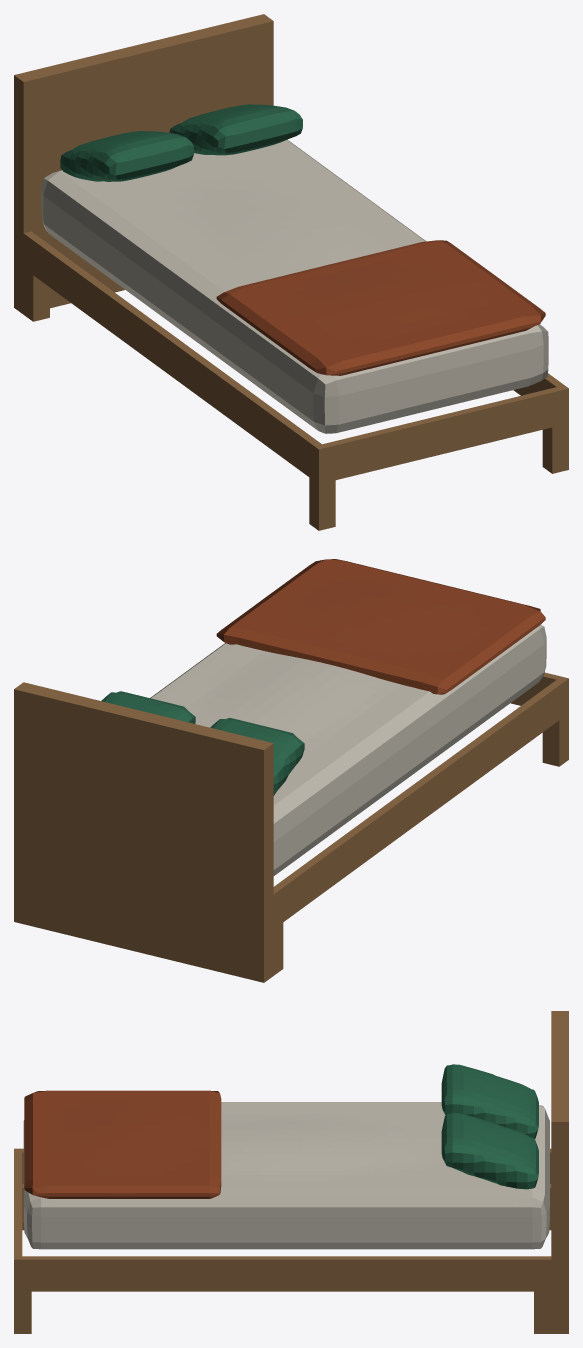
File: FET-KBD-single.glb
The picture shows the model from 3 angles, top to bottom: view 1: azimuth 30°, elevation 25°; view 2: azimuth 150°, elevation 25°; view 3: azimuth 270°, elevation 25°; orthographic projection. The views are drawn at different scales.
Visible parts, largest first — view 1: mattress:pbr, head:pbr, throw:pbr, rail-l:pbr, foot:pbr, pillow-l:pbr, pillow-r:pbr, leg-fl:pbr, leg-fr:pbr, leg-hl:pbr, rail-r:pbr; view 2: head:pbr, mattress:pbr, throw:pbr, rail-l:pbr, pillow-l:pbr, pillow-r:pbr, leg-fl:pbr; view 3: mattress:pbr, throw:pbr, rail-r:pbr, head:pbr, pillow-r:pbr, pillow-l:pbr, foot:pbr, leg-fr:pbr, leg-hr:pbr.
Boxes of the visible parts, box(x1,y1,x2,y2) form: mattress:pbr: box(41, 139, 548, 433); head:pbr: box(14, 14, 273, 314); throw:pbr: box(216, 240, 545, 375); rail-l:pbr: box(23, 231, 326, 484); foot:pbr: box(322, 387, 561, 482); pillow-l:pbr: box(60, 131, 193, 181); pillow-r:pbr: box(169, 104, 302, 155); leg-fl:pbr: box(309, 477, 335, 530); leg-fr:pbr: box(542, 423, 568, 473); leg-hl:pbr: box(23, 268, 49, 321); rail-r:pbr: box(513, 373, 568, 424); head:pbr: box(14, 682, 273, 982); mattress:pbr: box(150, 624, 546, 875); throw:pbr: box(216, 559, 545, 694); rail-l:pbr: box(273, 676, 568, 928); pillow-l:pbr: box(210, 717, 304, 795); pillow-r:pbr: box(101, 691, 195, 723); leg-fl:pbr: box(542, 713, 568, 766); mattress:pbr: box(23, 1102, 549, 1249); throw:pbr: box(24, 1090, 221, 1198); rail-r:pbr: box(14, 1256, 551, 1291); head:pbr: box(551, 1011, 568, 1333); pillow-r:pbr: box(441, 1112, 538, 1189); pillow-l:pbr: box(441, 1064, 538, 1138); foot:pbr: box(14, 1152, 22, 1256); leg-fr:pbr: box(14, 1291, 31, 1333); leg-hr:pbr: box(534, 1291, 551, 1333).
Size of the model in its own units: 0.9 by 0.8 by 1.9.
